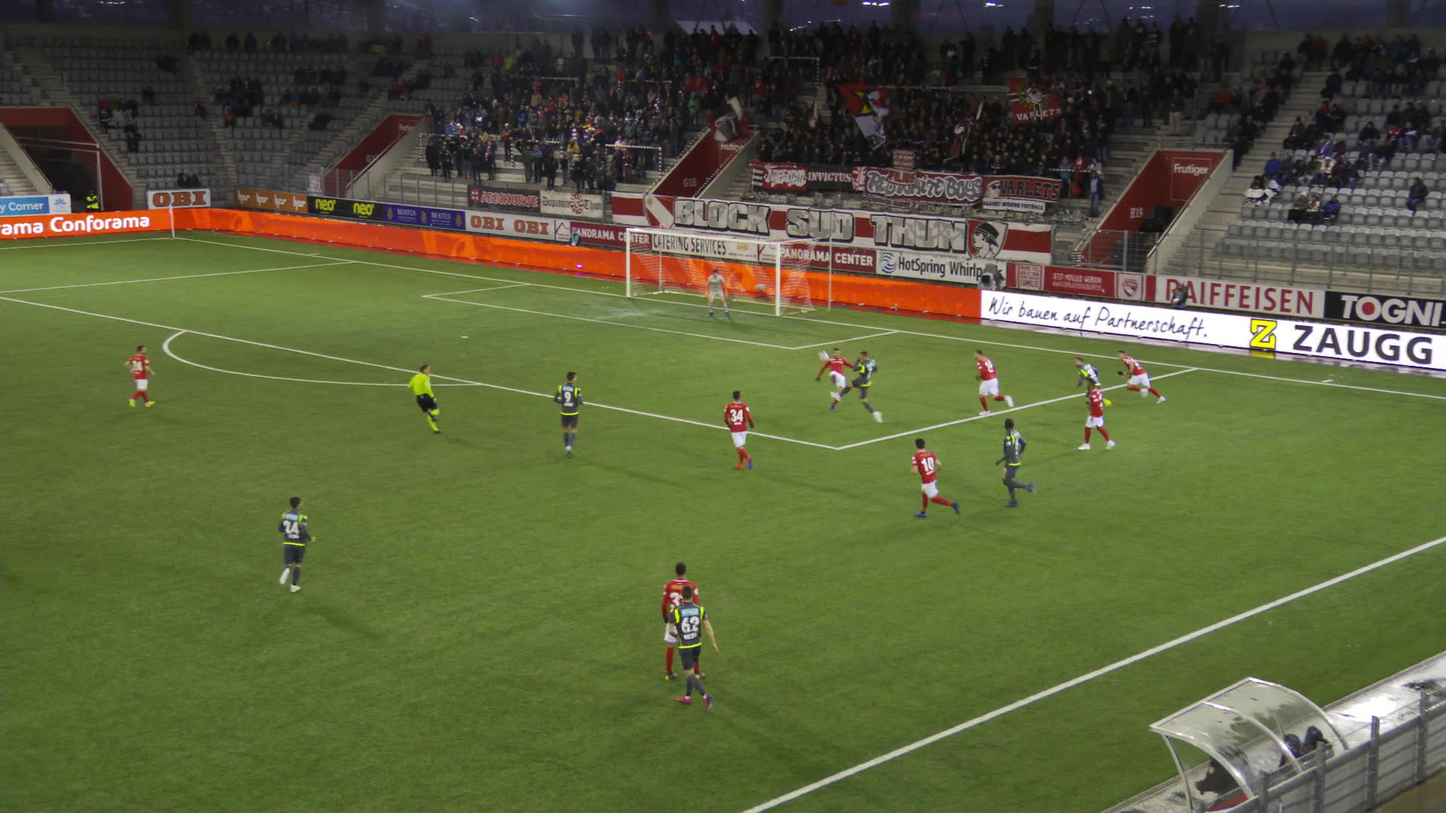ball: (825, 360, 834, 370)
player: (664, 584, 719, 716), (654, 560, 701, 684), (908, 436, 962, 522), (992, 416, 1042, 508), (269, 492, 312, 597), (832, 350, 887, 425), (969, 346, 1016, 421), (808, 344, 857, 415), (720, 388, 757, 476), (549, 372, 584, 460), (1115, 348, 1167, 405), (1078, 378, 1118, 452), (1072, 355, 1118, 419), (117, 344, 152, 414), (700, 267, 729, 319)
referee: (400, 362, 438, 437)
